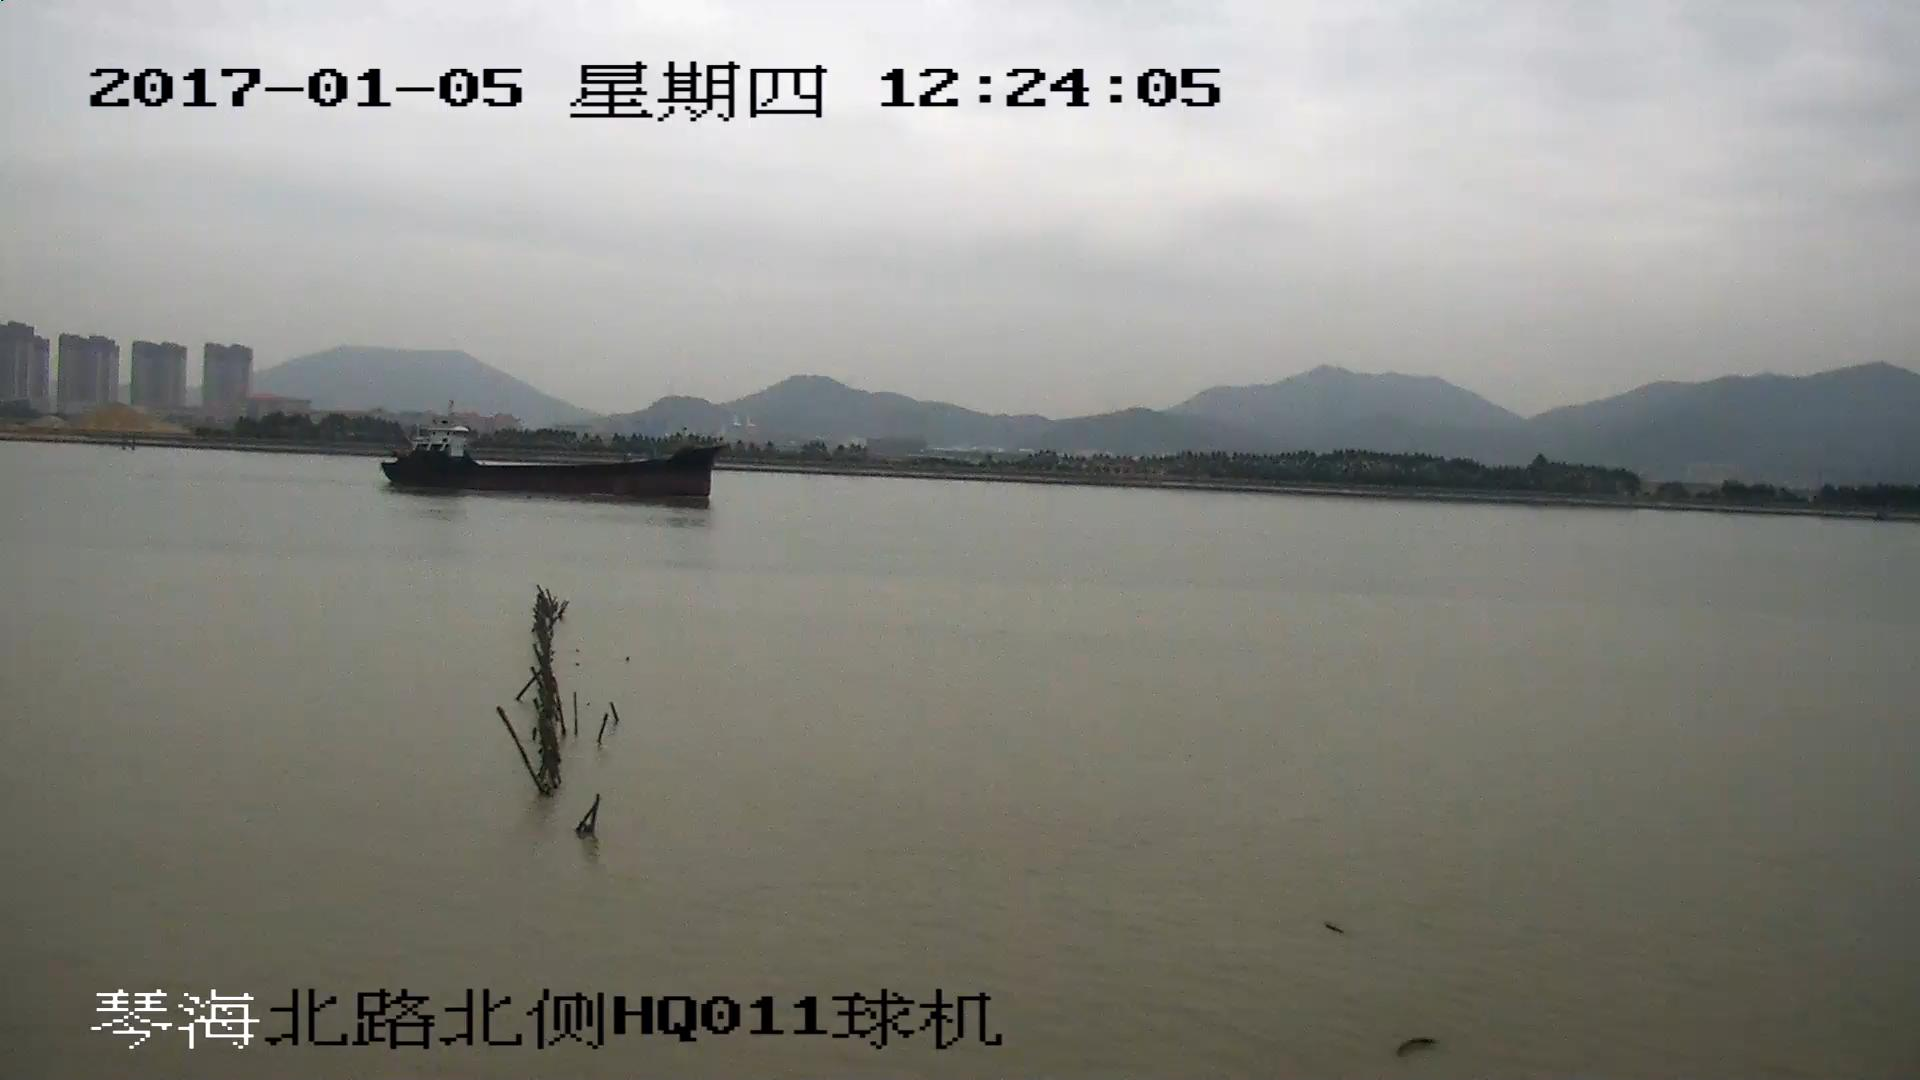general cargo ship: (374, 422, 719, 500)
